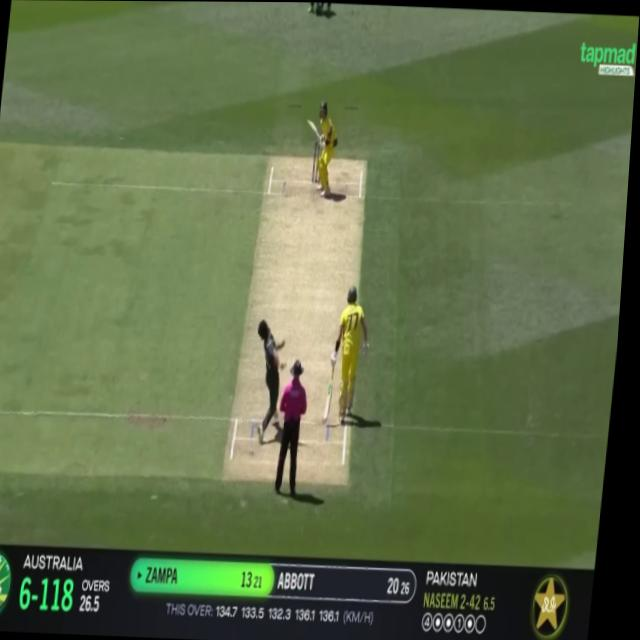Batsman: (292, 87, 348, 211)
